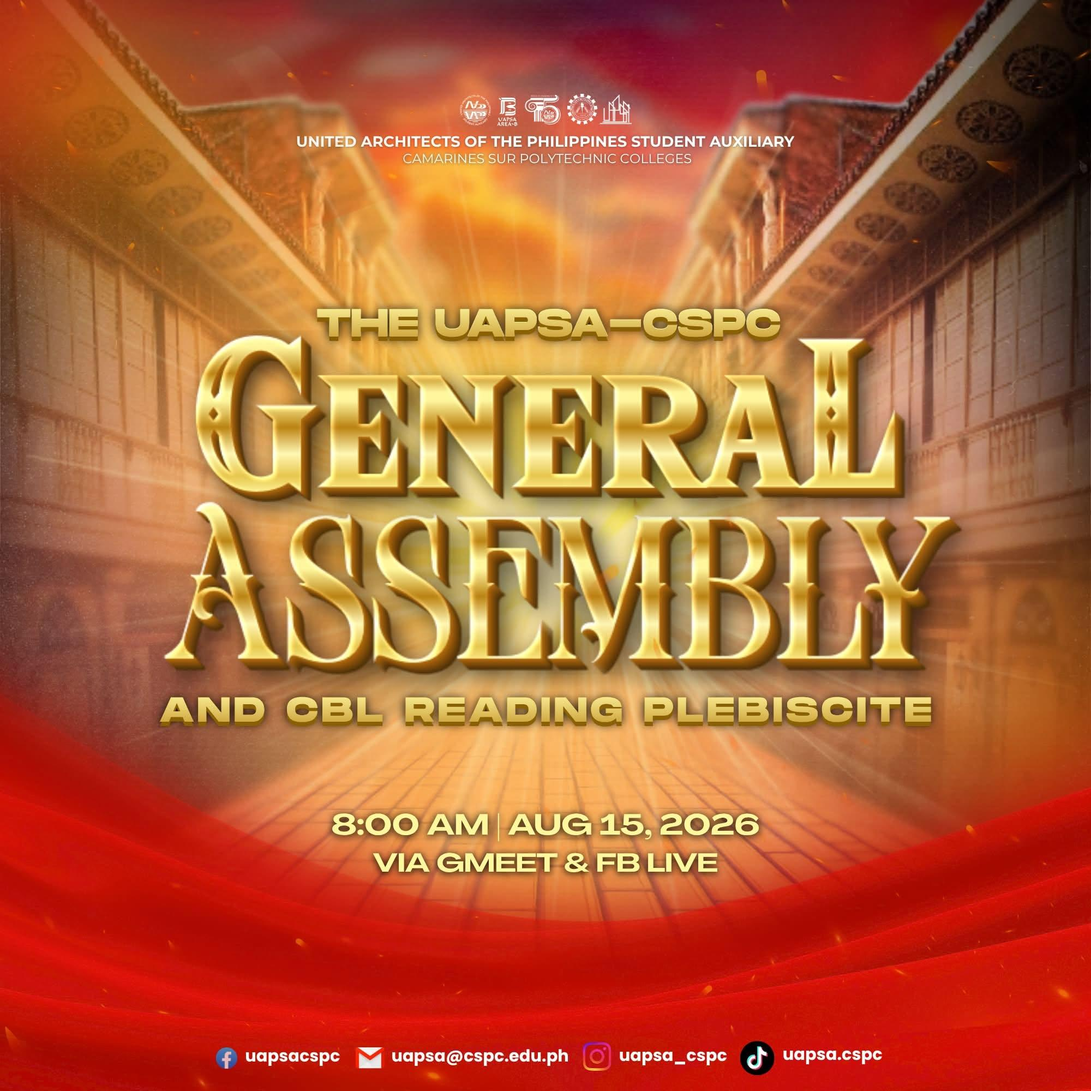embellishment: (736, 1035, 777, 1078), (350, 1042, 390, 1074), (580, 1039, 614, 1075), (213, 1042, 239, 1073)
logo: (524, 91, 565, 129), (566, 90, 601, 130), (601, 90, 636, 130), (458, 90, 493, 129), (494, 91, 523, 129)
text: (150, 295, 964, 735), (326, 801, 771, 885), (290, 130, 805, 171), (389, 1047, 572, 1070), (778, 1043, 894, 1069), (617, 1047, 730, 1069), (241, 1046, 341, 1065)
